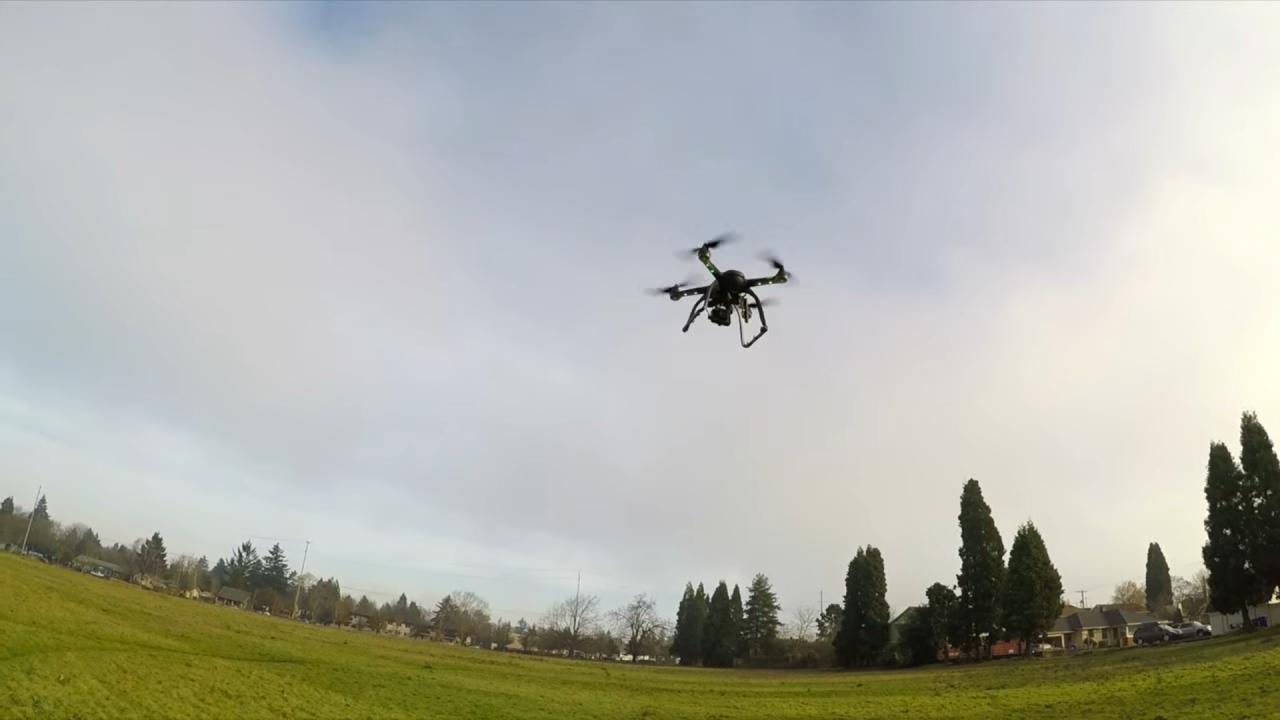Drone: (642, 220, 811, 358)
